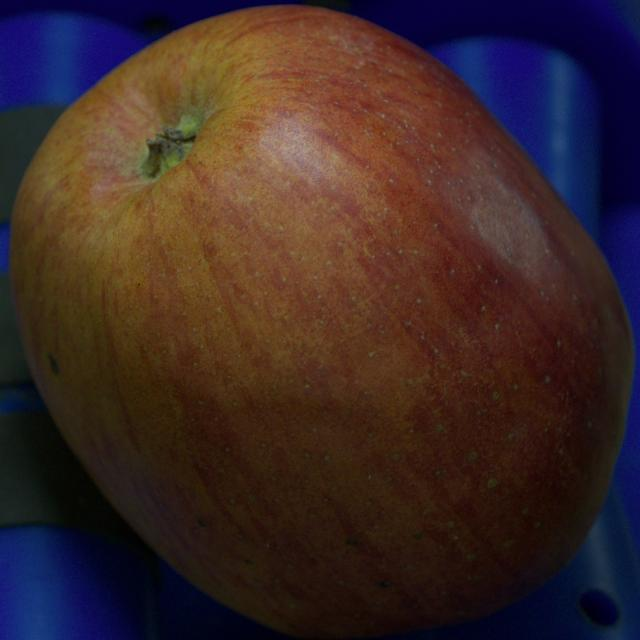apple: (10, 5, 633, 638)
bruise: (520, 157, 603, 267)
pest: (49, 354, 58, 374)
